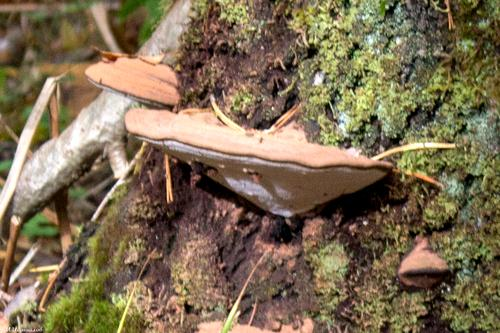Ganoderma - Fruit Body: (124, 108, 394, 227), (83, 51, 183, 105)
